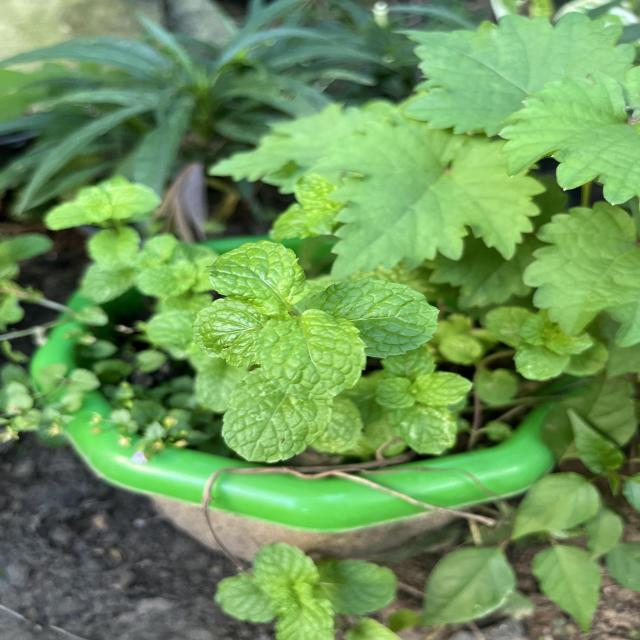Mentha spicata: (304, 276, 442, 362), (252, 308, 368, 403), (221, 368, 335, 464), (203, 239, 310, 313)
